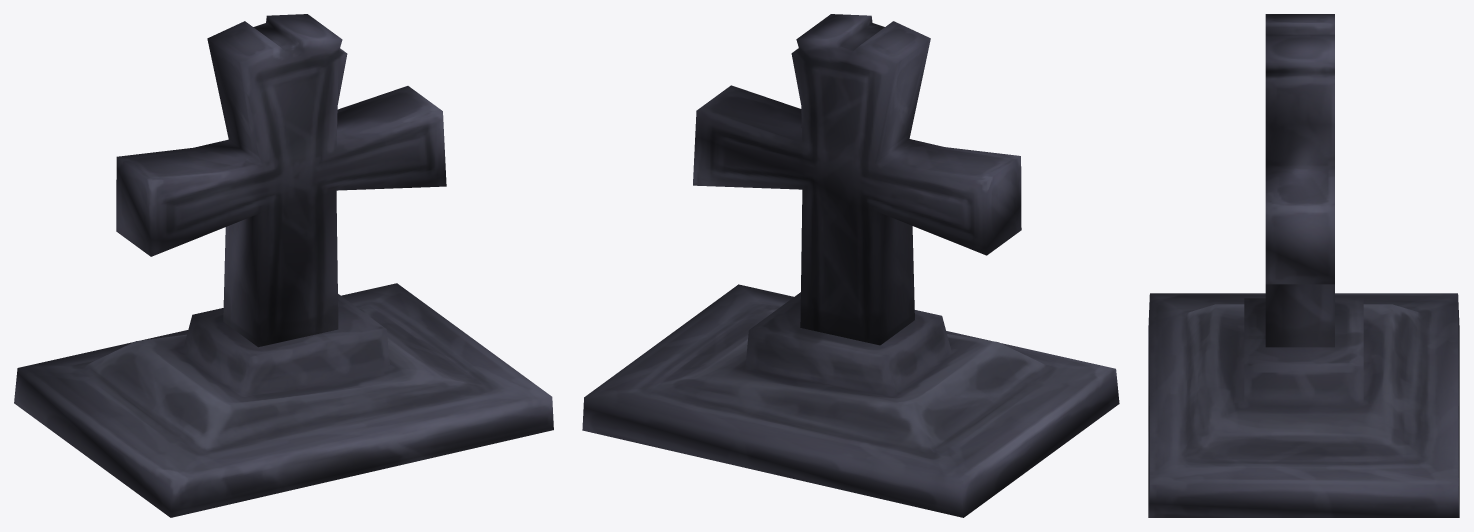
Rendered from tombstone_02.fbx.
The picture shows the model from 3 angles, left to right: view 1: azimuth 30°, elevation 25°; view 2: azimuth 150°, elevation 25°; view 3: azimuth 270°, elevation 25°; orthographic projection.
Parts seen in each view (by area): view 1: tombstone_02; view 2: tombstone_02; view 3: tombstone_02.
Part boxes in pixels (box(x1,y1,x2,y2)): tombstone_02: box(14, 14, 553, 517); tombstone_02: box(582, 14, 1119, 517); tombstone_02: box(1148, 14, 1459, 517).
Size of the model in its own units: 261 by 256 by 185.
